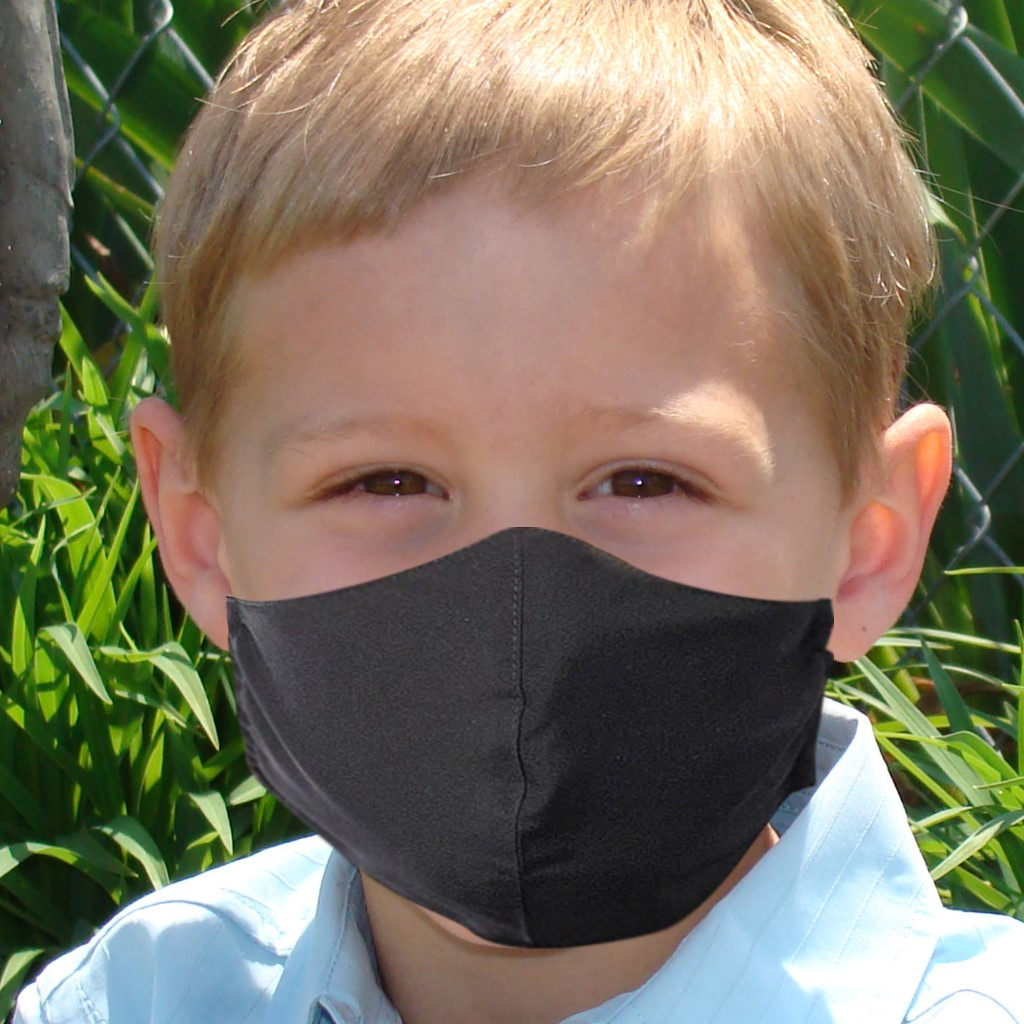con_mascara: (182, 148, 899, 968)
